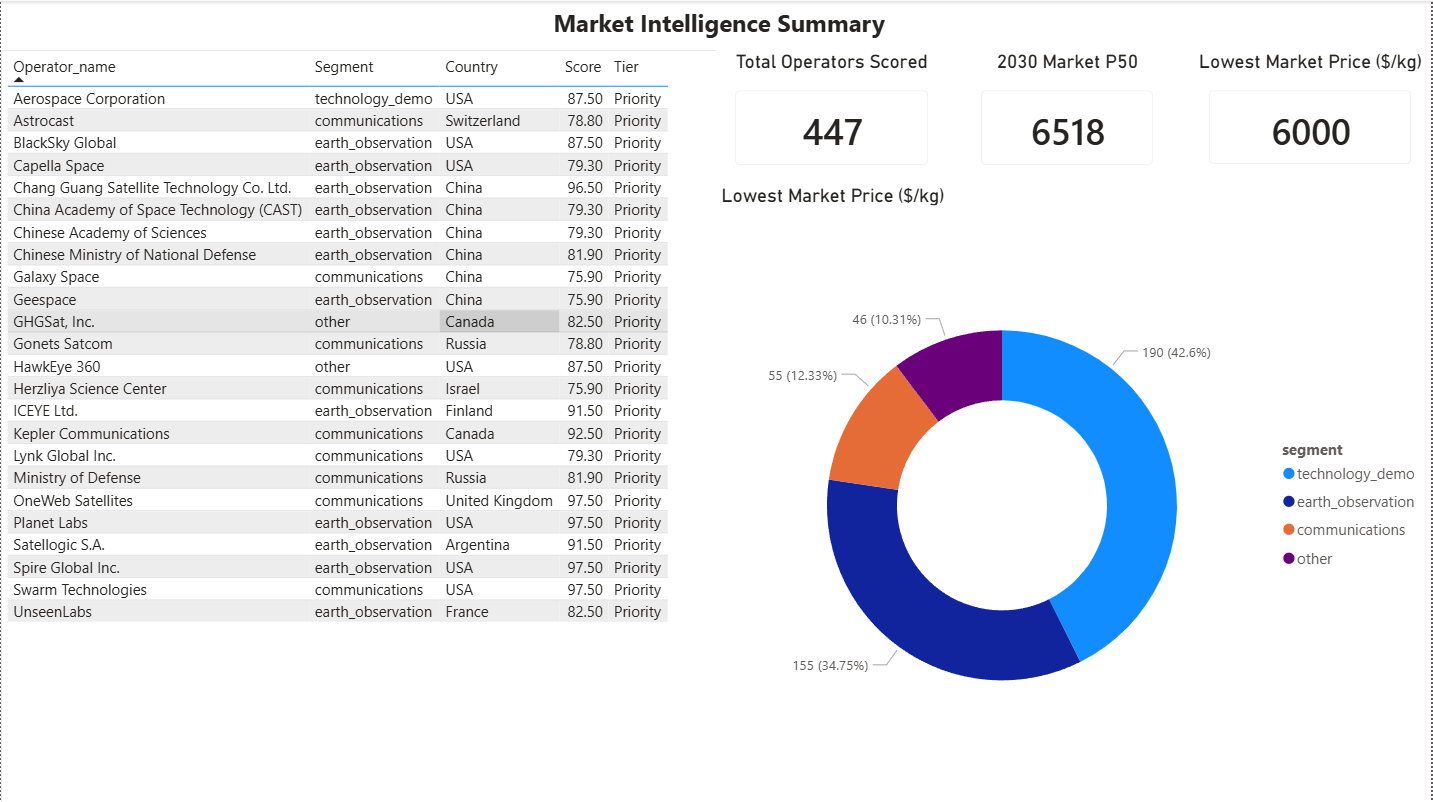

The page's visual inventory and layout, read from the dashboard file:
{"tool":"powerbi","page":{"name":"BD Command Centre","canvas":[1280,720],"ordinal":3},"visuals":[{"type":"tableEx","fields":{"Values":["customer_scores.operator_name","customer_scores.segment","customer_scores.country","Sum(customer_scores.Score)","customer_scores.tier"]},"box":[0,44,640.8,676.2],"z":0},{"type":"cardVisual","title":"2030 Market P50","fields":{"Data":["Sum(demand_forecast.p50)"]},"box":[860.8,43.5,188.9,120.3],"z":1000},{"type":"cardVisual","title":"Lowest Market Price ($/kg)","fields":{"Data":["Min(positioning_matrix.price_per_kg_usd)"]},"box":[1065.1,44,215.2,119.8],"z":2000},{"type":"cardVisual","title":"Total Operators Scored","fields":{"Data":["CountNonNull(customer_scores.operator_name)"]},"box":[640.2,43.5,207.3,120.3],"z":3000},{"type":"donutChart","title":"Lowest Market Price ($/kg)","fields":{"Category":["customer_scores.segment"],"Y":["CountNonNull(customer_scores.operator_name)"]},"box":[640.2,163.8,640.2,556.6],"z":4000},{"type":"textbox","box":[324.3,0,631.8,43.5],"z":5000}]}

Visuals, with their boxes in screenshot pixels (x1, y1, x2, y2), scaled from the page's 1280x720 canvas onto the 1433x802 screenshot:
tableEx - customer_scores.operator_name x customer_scores.segment: 0,49,717,801
"2030 Market P50" cardVisual: 964,48,1175,182
"Lowest Market Price ($/kg)" cardVisual: 1192,49,1432,182
"Total Operators Scored" cardVisual: 717,48,949,182
"Lowest Market Price ($/kg)" donutChart: 717,182,1432,801
textbox: 363,0,1070,48
